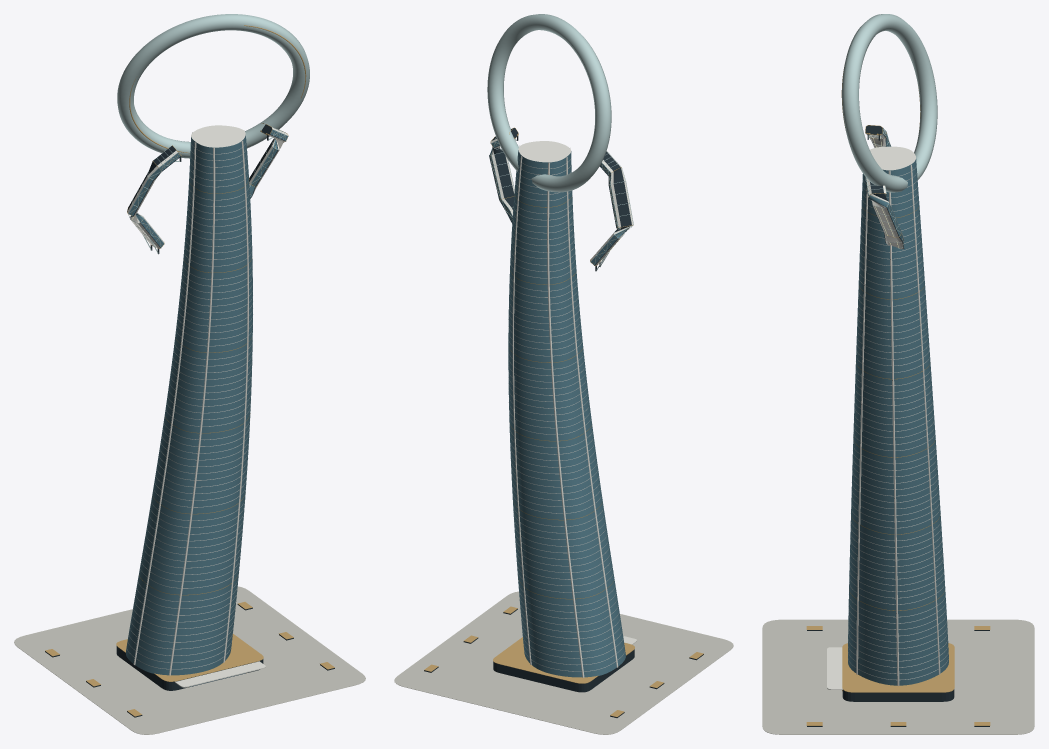
Rendered from tower-lod0.glb.
3 renders of one model, left to right at view 1: azimuth 30°, elevation 25°; view 2: azimuth 150°, elevation 25°; view 3: azimuth 270°, elevation 25°, orthographic. The views are drawn at different scales.
Visible parts, largest first — view 1: GC-OFFICE-003-glass, GC-OFFICE-003-stone, GC-OFFICE-003-white, GC-OFFICE-003-pearl, GC-OFFICE-003-gold, GC-OFFICE-003-dark; view 2: GC-OFFICE-003-glass, GC-OFFICE-003-stone, GC-OFFICE-003-white, GC-OFFICE-003-pearl, GC-OFFICE-003-dark, GC-OFFICE-003-gold; view 3: GC-OFFICE-003-glass, GC-OFFICE-003-stone, GC-OFFICE-003-white, GC-OFFICE-003-pearl, GC-OFFICE-003-gold, GC-OFFICE-003-dark.
Boxes of the visible parts, <box> form: GC-OFFICE-003-glass: <box>126,130,287,675</box>; GC-OFFICE-003-stone: <box>14,586,365,734</box>; GC-OFFICE-003-white: <box>127,125,287,687</box>; GC-OFFICE-003-pearl: <box>117,14,309,253</box>; GC-OFFICE-003-gold: <box>45,25,334,716</box>; GC-OFFICE-003-dark: <box>45,123,334,717</box>; GC-OFFICE-003-glass: <box>489,140,627,677</box>; GC-OFFICE-003-stone: <box>394,591,733,734</box>; GC-OFFICE-003-white: <box>491,138,636,677</box>; GC-OFFICE-003-pearl: <box>487,14,633,270</box>; GC-OFFICE-003-dark: <box>424,128,703,717</box>; GC-OFFICE-003-gold: <box>424,127,703,717</box>; GC-OFFICE-003-glass: <box>848,129,948,685</box>; GC-OFFICE-003-stone: <box>762,619,1034,734</box>; GC-OFFICE-003-white: <box>827,134,948,689</box>; GC-OFFICE-003-pearl: <box>842,14,937,248</box>; GC-OFFICE-003-gold: <box>806,67,990,725</box>; GC-OFFICE-003-dark: <box>807,125,989,726</box>.
Bounding box in the file's own units: 156 × 420 × 156.
